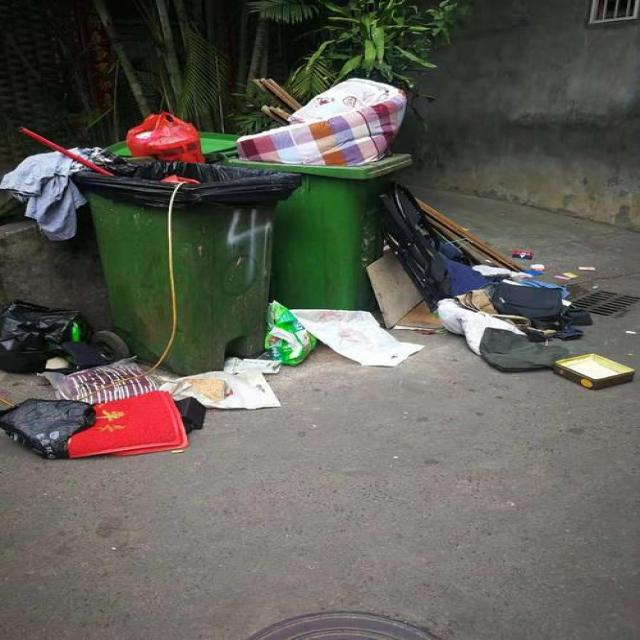garbage: (0, 246, 631, 459)
overflow: (0, 112, 300, 374), (222, 77, 412, 309)
